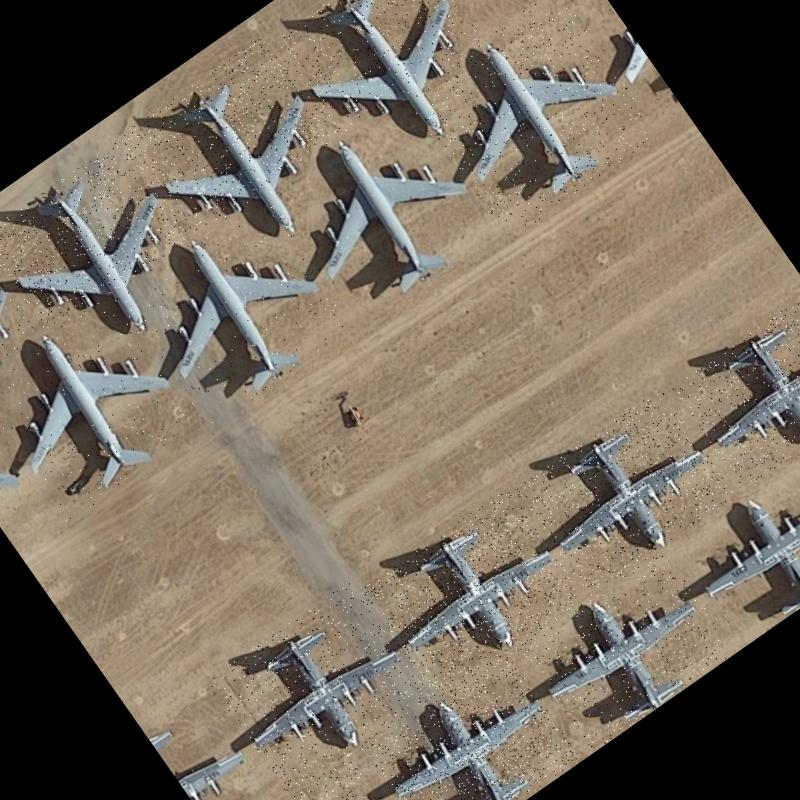A14: (406, 0, 660, 240), (123, 36, 367, 283), (262, 92, 503, 333), (114, 192, 353, 429), (0, 137, 221, 378), (0, 287, 204, 525), (268, 0, 514, 185), (0, 231, 68, 455)
A2: (208, 580, 435, 799), (360, 487, 588, 705), (515, 388, 736, 596), (520, 547, 736, 752), (363, 650, 581, 800), (666, 437, 800, 649), (672, 290, 800, 497), (221, 752, 421, 800)
